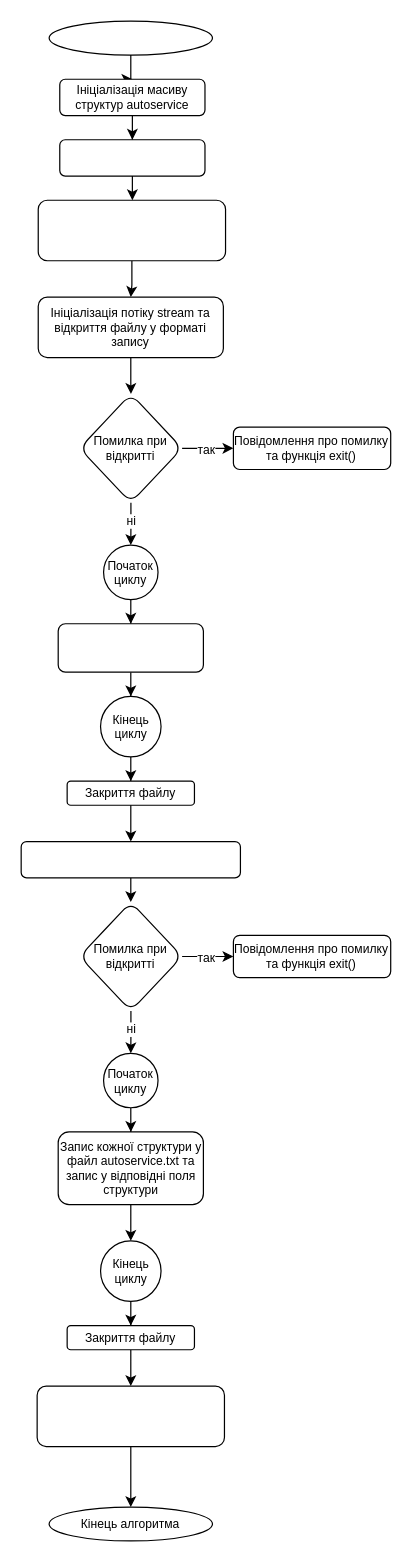
The diagram is 413 pixels wide and 1562 high, and some of its shapes have lost their labels. Here are the shapes that lost their labels. From the top down, the centre of each, then its label:
At [130,37]: "Початок алгоритма".
At [132,157]: "Заповнення масиву структур даними".
At [131,230]: "Друкування попередньо сформованих та підготовлених для запису в файл даних.".
At [130,647]: "Запис кожної структури у файл autoservice.txt".
At [130,859]: "Відкриття файлу у форматі читання".
At [130,1416]: "Друкування результату виконання операції читання даних із файлу.".
